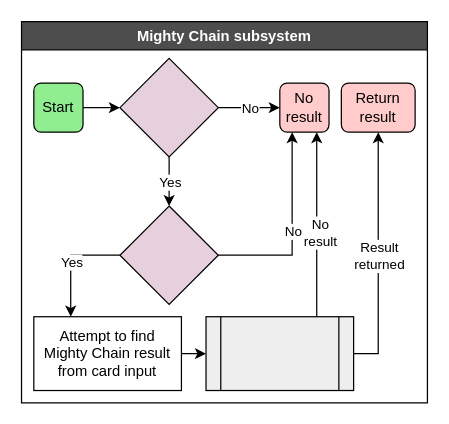
The diagram is 449 pixels wide and 424 high, and some of its shapes have lost their labels. Here are the shapes that lost their labels. From the top down, the box of each, then its label:
(119, 57, 218, 157): Has 3 card types?
(119, 205, 218, 304): Are NP types all unique?
(205, 315, 354, 391): Brave Chain decision tree
